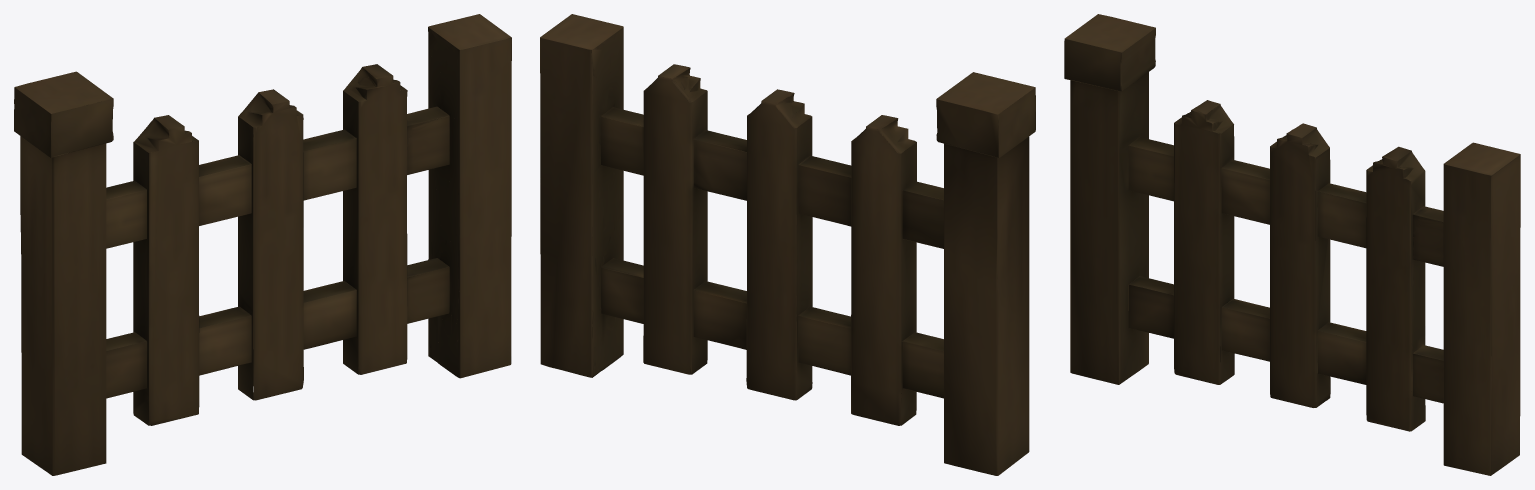
Rendered from fence.glb.
The picture shows the model from 3 angles, left to right: view 1: azimuth 30°, elevation 25°; view 2: azimuth 150°, elevation 25°; view 3: azimuth 330°, elevation 25°; orthographic projection. The views are drawn at different scales.
Visible parts, largest first — view 1: node_0; view 2: node_0; view 3: node_0.
Boxes of the visible parts, x1,y1,x2,y2 form: node_0: (14,14,511,475); node_0: (540,14,1035,475); node_0: (1064,14,1520,475).
Bounding box in the file's own units: 0.9526 × 0.7211 × 0.1331.
1 material, 1 textured.
